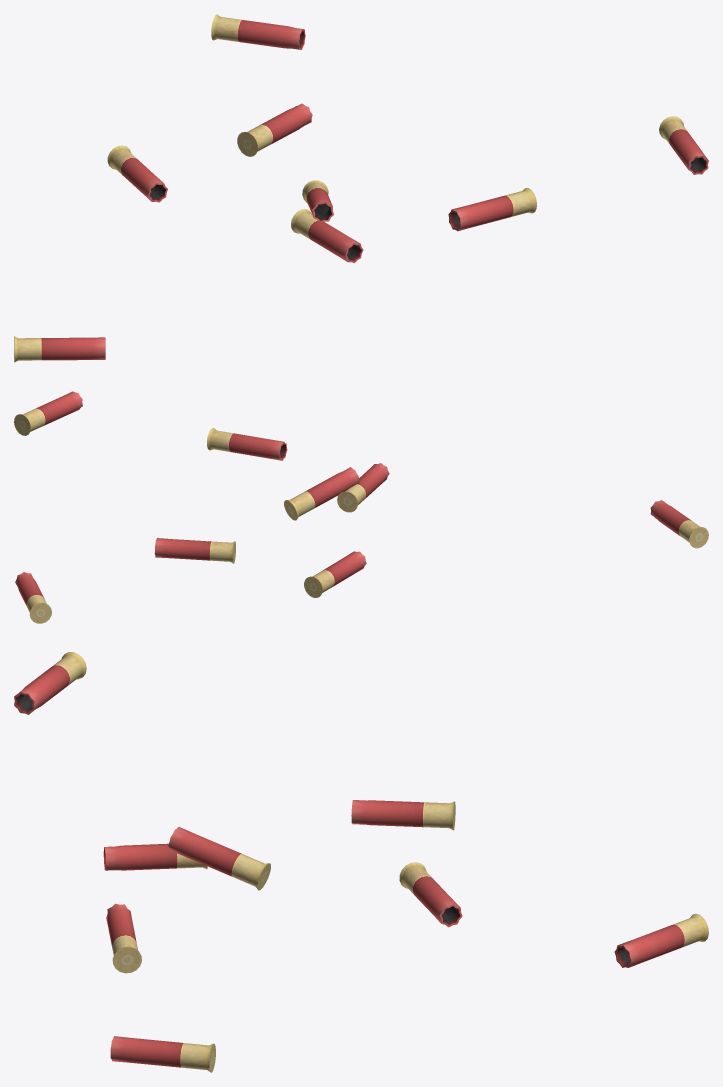
Rendered from SM_Ammo_Pile_01d.glb.
The picture shows the model from 3 angles, top to bottom: view 1: azimuth 30°, elevation 25°; view 2: azimuth 150°, elevation 25°; view 3: azimuth 270°, elevation 25°; orthographic projection. The views are drawn at different scales.
Parts seen in each view (by area): view 1: SM_Ammo_Pile_01d; view 2: SM_Ammo_Pile_01d; view 3: SM_Ammo_Pile_01d.
Boxes of the visible parts, left/top/right/bottom form: SM_Ammo_Pile_01d: left=14, top=14, right=708, bottom=362; SM_Ammo_Pile_01d: left=14, top=391, right=708, bottom=623; SM_Ammo_Pile_01d: left=14, top=652, right=708, bottom=1072.
Size of the model in its own units: 0.6264 by 0.0325 by 0.458.
1 material, 1 textured.
